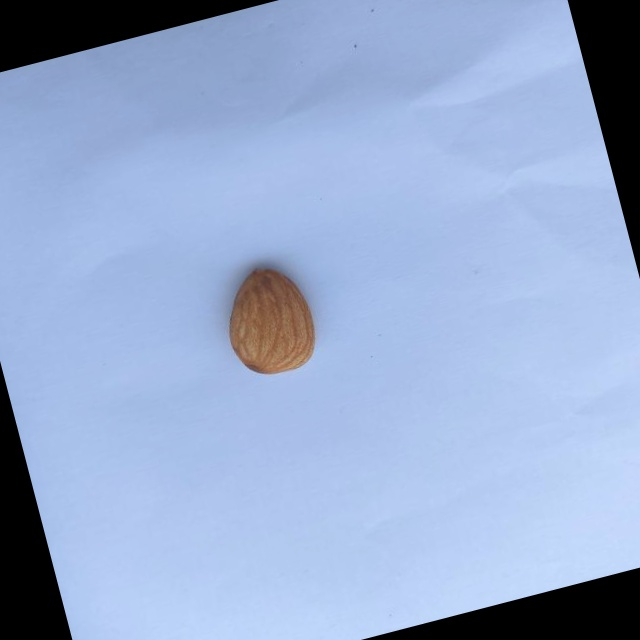grade1: (207, 248, 335, 391)
